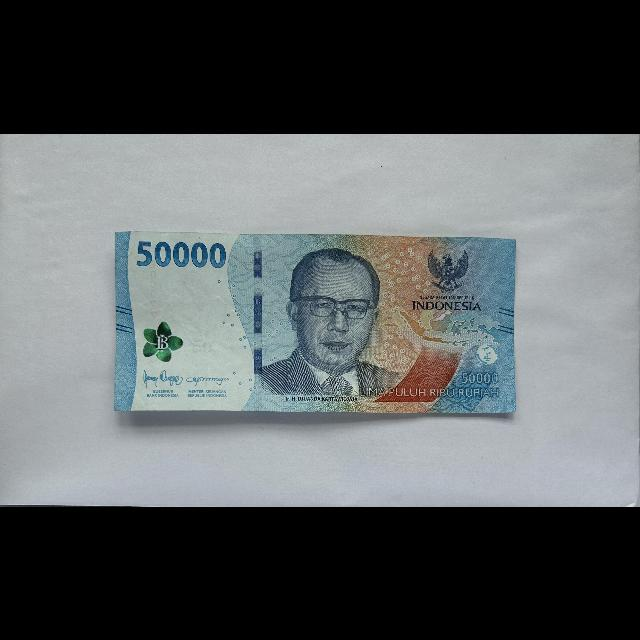Asli-50k: (114, 229, 519, 414)
Tinta-Asli-50k: (143, 319, 184, 362)
